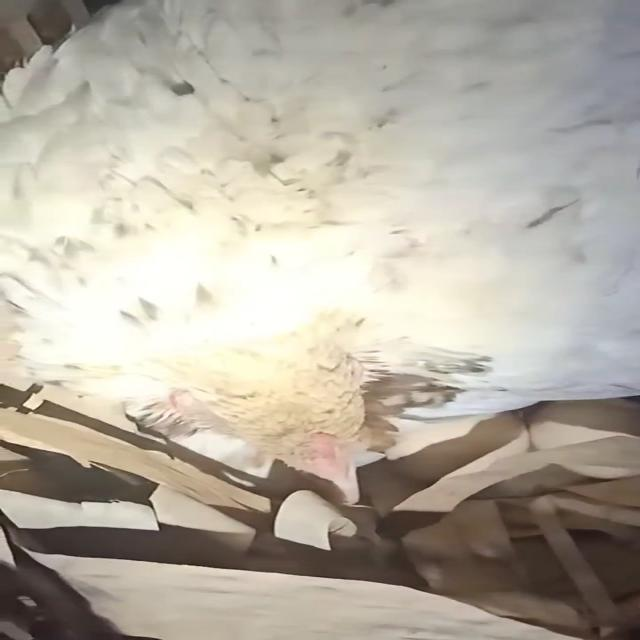crouch chicken: (2, 0, 640, 496)
